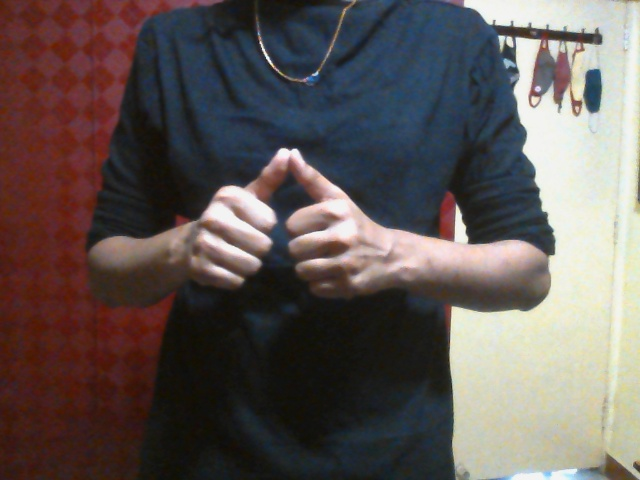A: (188, 144, 387, 302)
